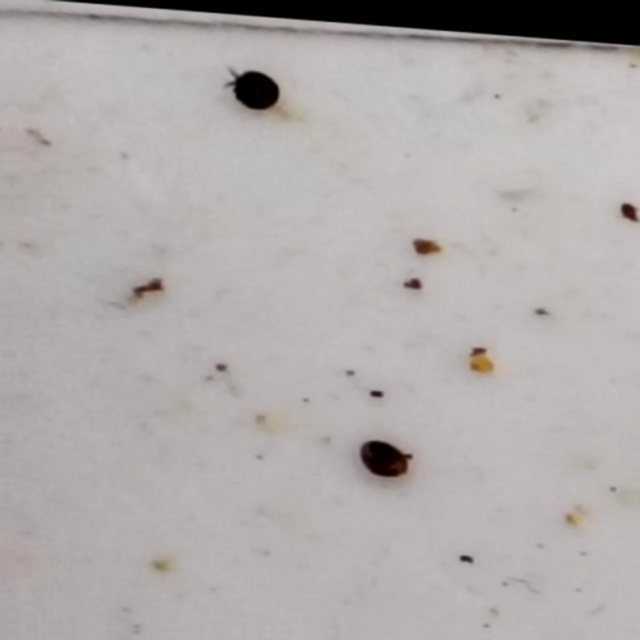varroa: (228, 64, 283, 110), (359, 434, 410, 476)
